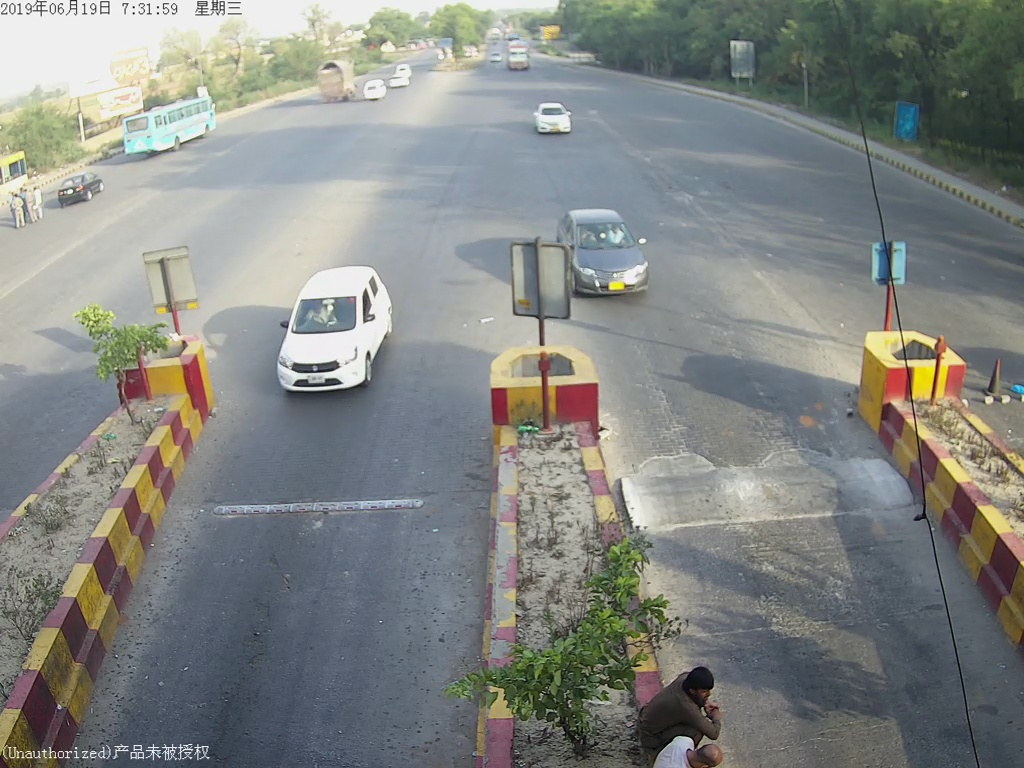Cat-1: (259, 259, 409, 400), (573, 208, 658, 305), (531, 102, 585, 146)
